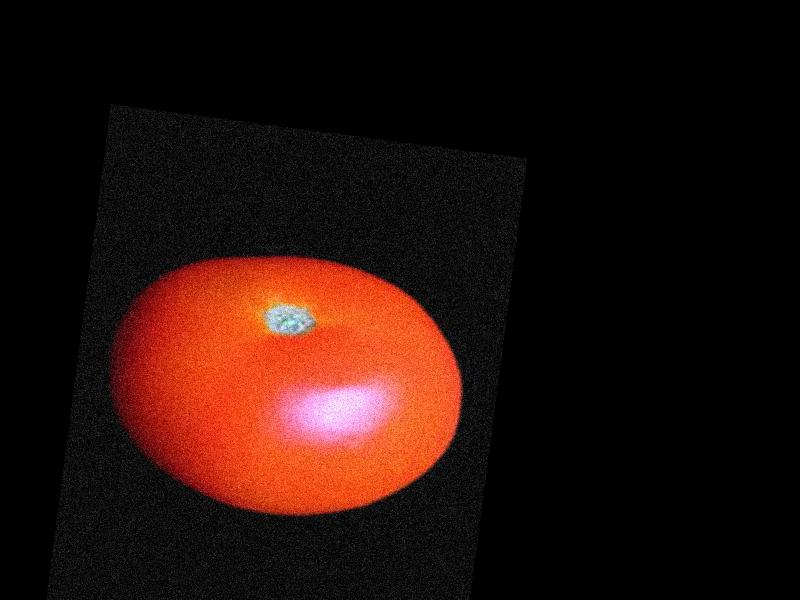Tomato: (93, 234, 478, 535)
